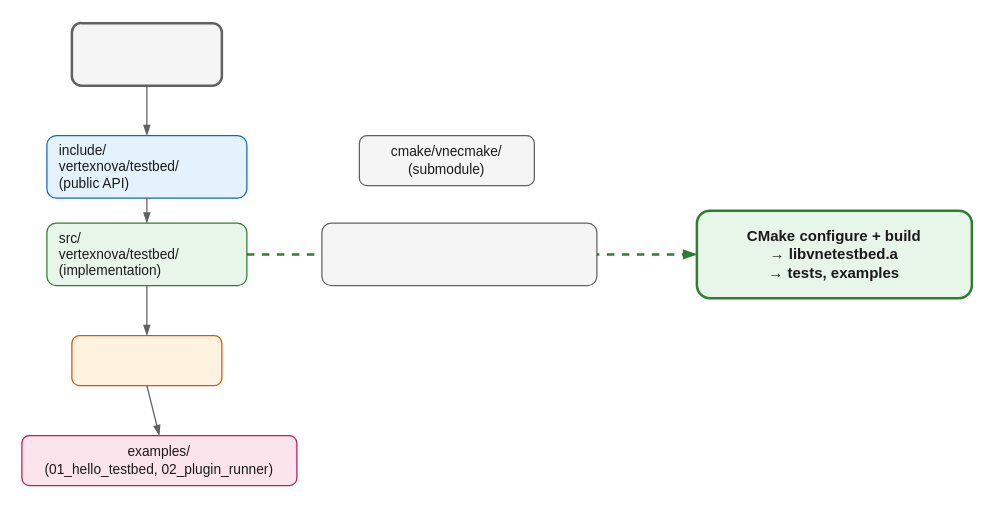
Image size: 995x508. Some labels were removed from this diagram. Each missing label, with the box of its shape:
deps/internal/ deps/external/ (vnecommon, vnelogging, GTest): (321, 222, 597, 286)
tests/ (Google Test): (71, 334, 222, 386)
vnetestbed/ (root): (70, 21, 222, 86)
